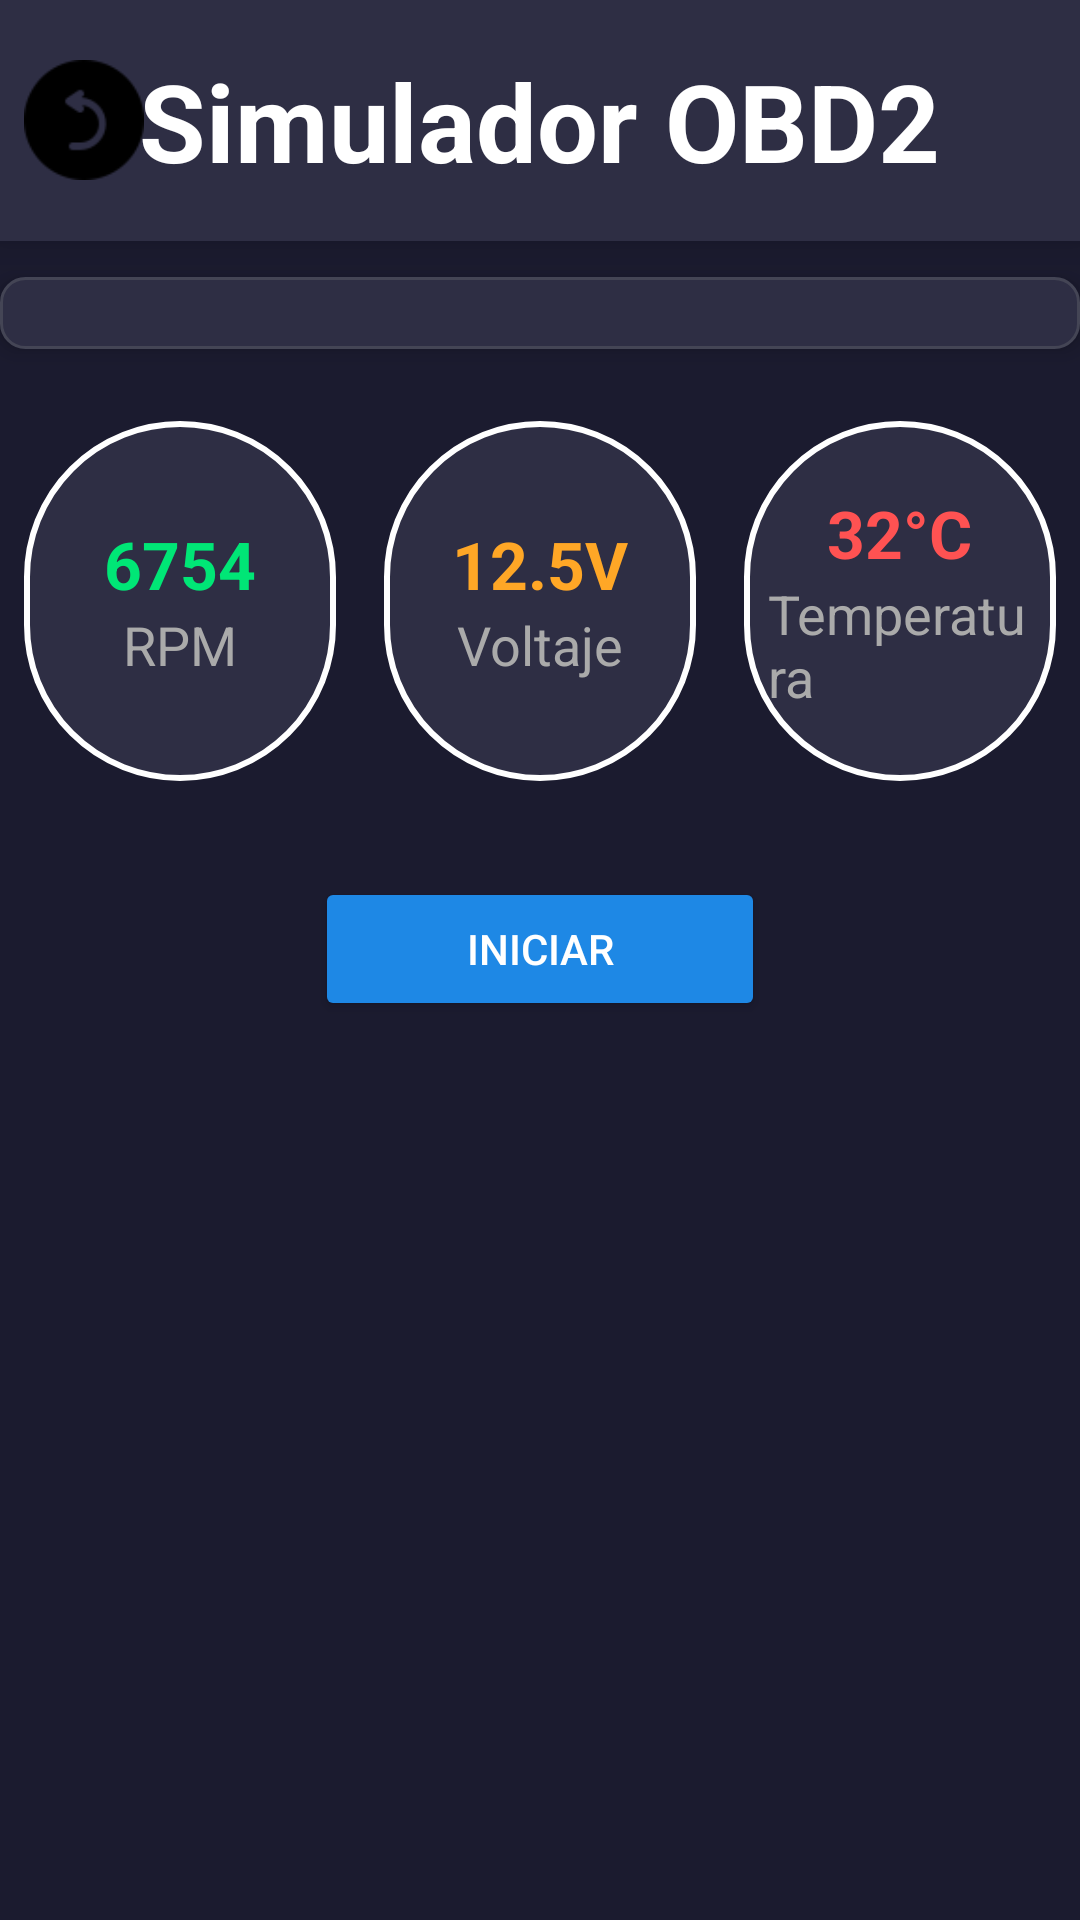

Icon click points for this 1080x1920 phone screenshot, format (x,y):
flecha hacia atras: (84,120)
